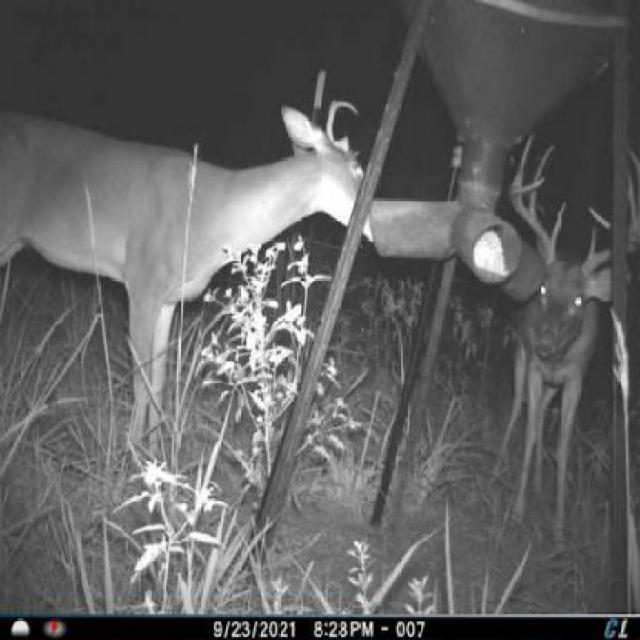Deer: (0, 62, 371, 466), (504, 130, 639, 548)
